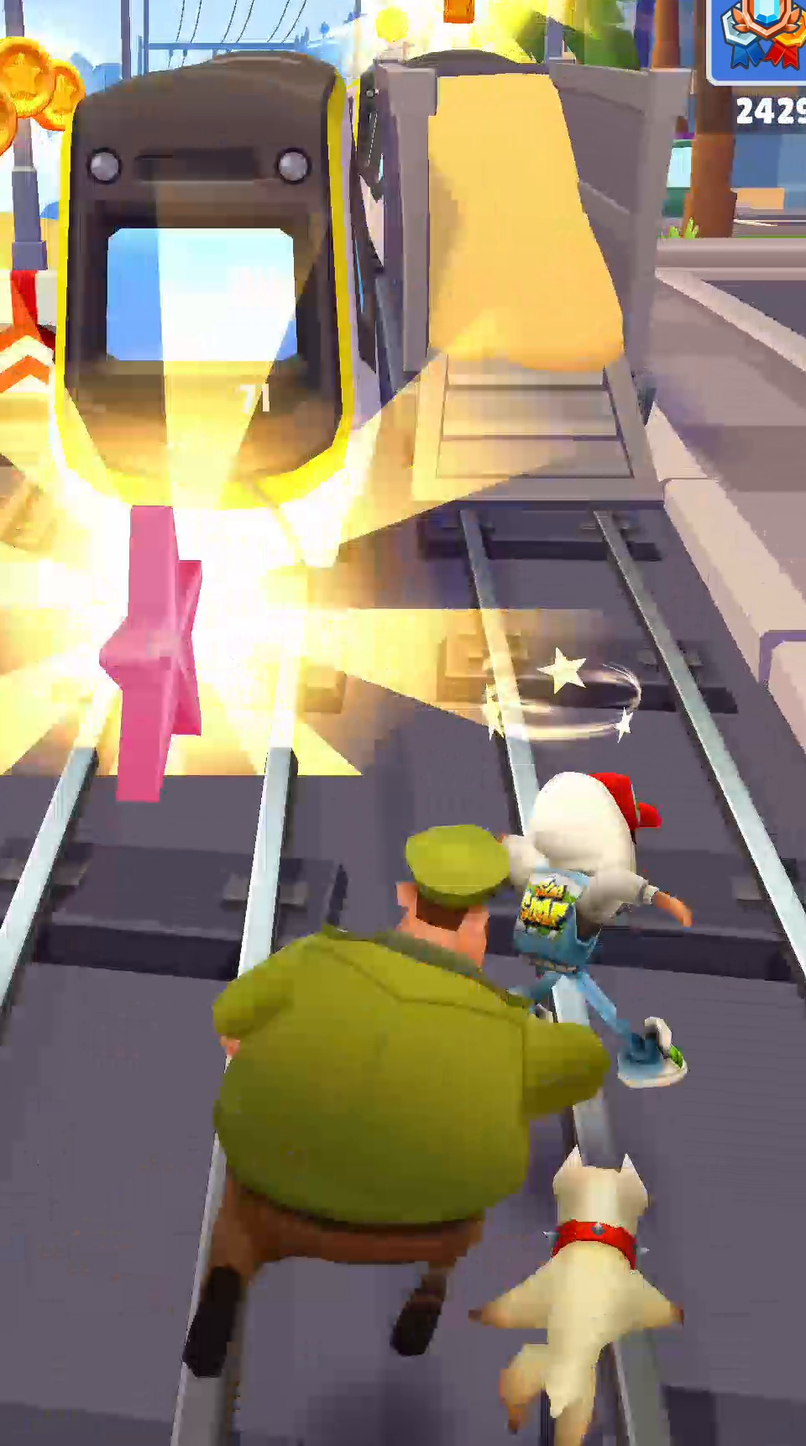climber: (375, 50, 687, 505)
police: (184, 825, 609, 1377)
roll blocker: (0, 268, 57, 394)
train: (51, 50, 401, 565)
